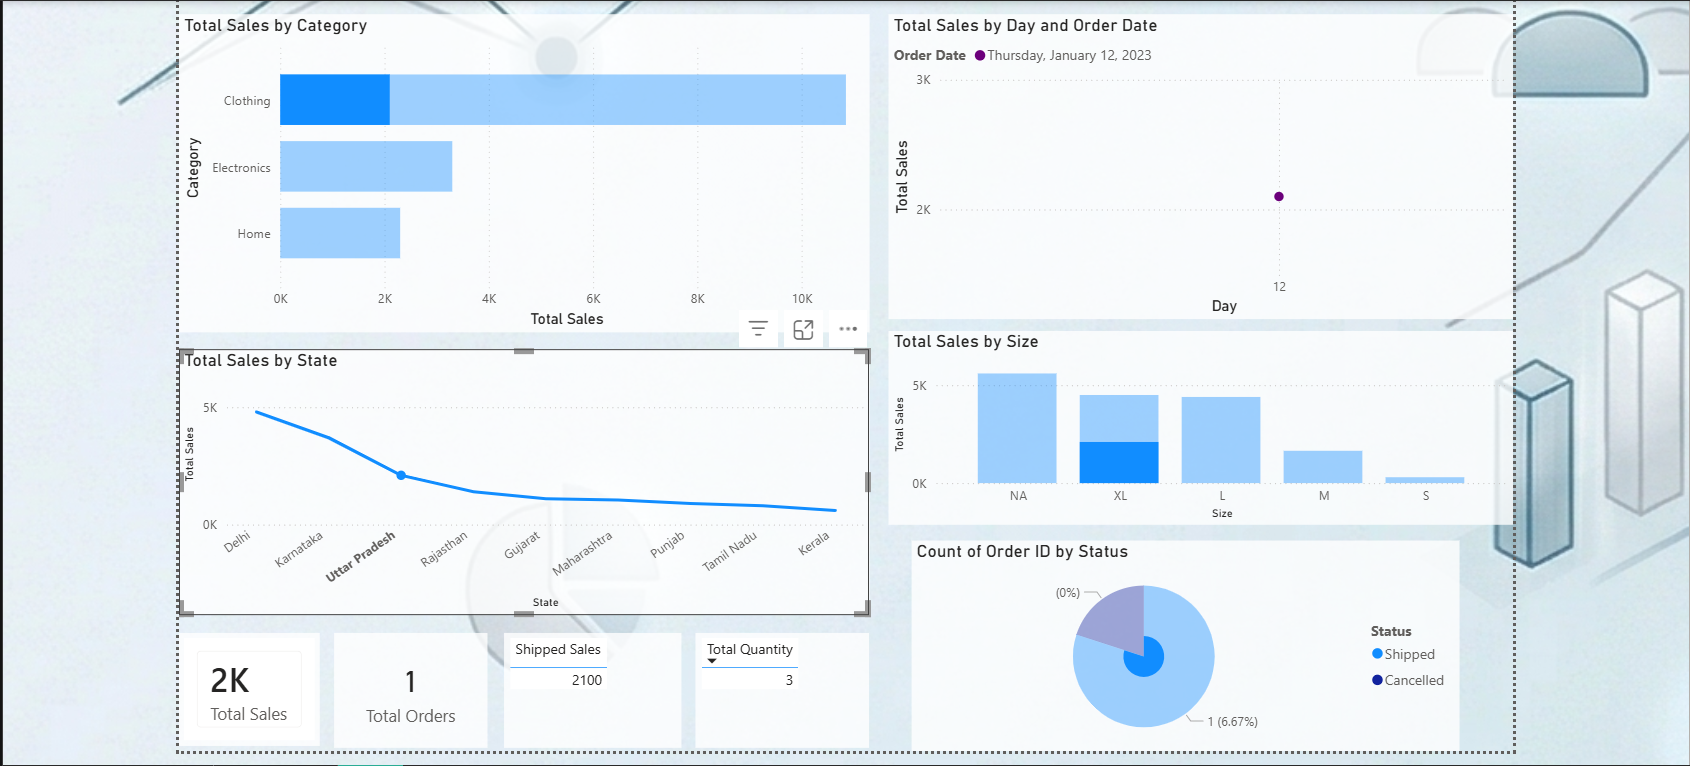

What the dashboard file says about the page in this screenshot:
{"tool":"powerbi","page":{"name":"Page 1","canvas":[1280,720],"ordinal":0},"visuals":[{"type":"cardVisual","fields":{"Data":["Amazon Sale Report.Total Sales"]},"box":[0,606.8,135,108.7],"z":0},{"type":"card","fields":{"Values":["Amazon Sale Report.Total Orders"]},"box":[149.1,606.8,147.3,110.5],"z":1000},{"type":"tableEx","fields":{"Values":["Amazon Sale Report.Shipped Sales"]},"box":[312.2,606.8,170.1,110.5],"z":2000},{"type":"tableEx","fields":{"Values":["Amazon Sale Report.Total Quantity"]},"box":[496.3,606.8,166.6,110.5],"z":3000},{"type":"clusteredBarChart","fields":{"Y":["Amazon Sale Report.Total Sales"],"Category":["Amazon Sale Report.Category"]},"box":[0,12.3,663,305.2],"z":4000},{"type":"lineChart","fields":{"Category":["Amazon Sale Report.Order Date.Variation.Date Hierarchy.Day"],"Y":["Amazon Sale Report.Total Sales"],"Series":["Amazon Sale Report.Order Date"]},"box":[680.5,12.3,599.8,292.9],"z":5000},{"type":"lineChart","fields":{"Category":["Amazon Sale Report.State"],"Y":["Amazon Sale Report.Total Sales"]},"box":[0,335,663,254.3],"z":6000},{"type":"clusteredColumnChart","fields":{"Category":["Amazon Sale Report.Size"],"Y":["Amazon Sale Report.Total Sales"]},"box":[680.5,317.5,599.8,185.9],"z":7000},{"type":"pieChart","fields":{"Category":["Amazon Sale Report.Status"],"Y":["CountNonNull(Amazon Sale Report.Order ID)"]},"box":[703.3,517.4,526.2,203.4],"z":8000}]}

Visuals, with their boxes in screenshot pixels (x1, y1, x2, y2):
cardVisual - Amazon Sale Report.Total Sales: 172,632,313,746
card - Amazon Sale Report.Total Orders: 328,632,483,748
tableEx - Amazon Sale Report.Shipped Sales: 499,632,678,748
tableEx - Amazon Sale Report.Total Quantity: 692,632,867,748
clusteredBarChart - Amazon Sale Report.Total Sales x Amazon Sale Report.Category: 172,9,867,329
lineChart - Amazon Sale Report.Order Date.Variation.Date Hierarchy.Day x Amazon Sale Report.Total Sales: 885,9,1515,316
lineChart - Amazon Sale Report.State x Amazon Sale Report.Total Sales: 172,347,867,614
clusteredColumnChart - Amazon Sale Report.Size x Amazon Sale Report.Total Sales: 885,329,1515,524
pieChart - Amazon Sale Report.Status x CountNonNull(Amazon Sale Report.Order ID): 909,538,1461,752
